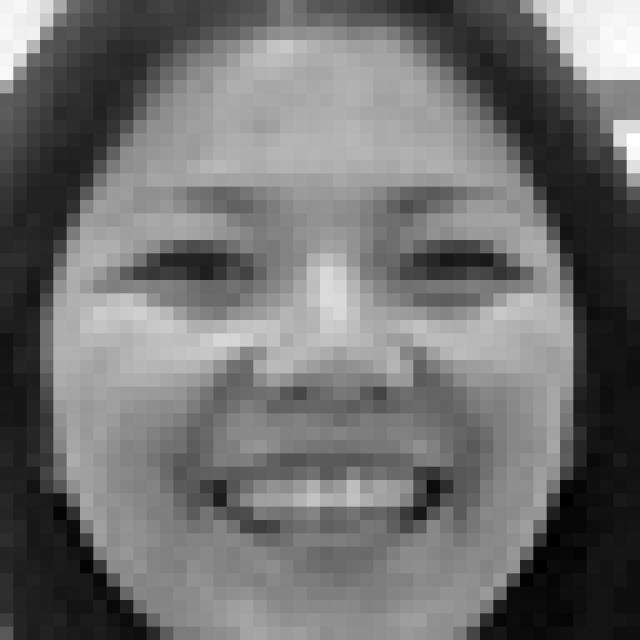happy: (88, 174, 547, 575)
